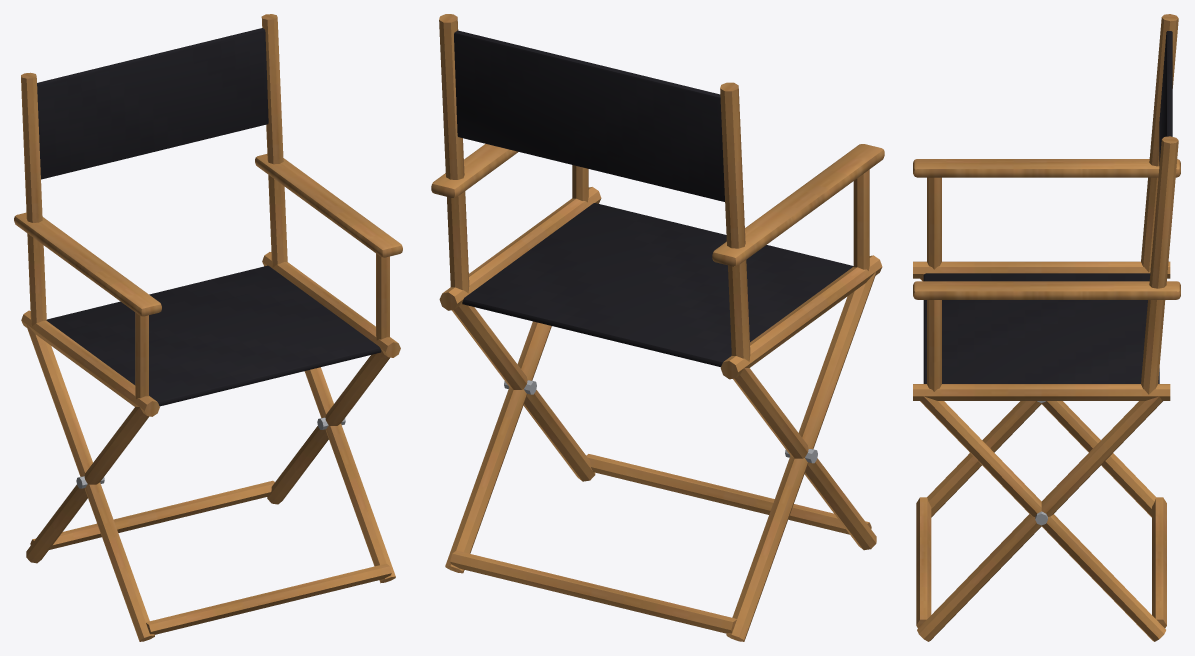
File: cadeira-diretor.glb
3 renders of one model, left to right at view 1: azimuth 30°, elevation 25°; view 2: azimuth 150°, elevation 25°; view 3: azimuth 270°, elevation 25°, orthographic. The views are drawn at different scales.
Visible parts, largest first — view 1: assento-lona, encosto-lona, perna-a, coluna-encosto, travessa-piso, braco, braco.001, coluna-encosto.001, perna-a.001, travessa-piso.001, perna-b, perna-b.001 (+4 smaller); view 2: assento-lona, encosto-lona, perna-b, travessa-piso.001, coluna-encosto, braco, perna-b.001, coluna-encosto.001, perna-a, travessa-piso, perna-a.001, trilho-assento (+3 smaller); view 3: assento-lona, perna-b.001, perna-a.001, braco.001, braco, coluna-encosto.001, trilho-assento.001, trilho-assento, coluna-encosto, perna-b, perna-a, travessa-piso (+4 smaller).
Boxes of the visible parts, box(x1,y1,x2,y2) form: assento-lona: box(46, 265, 381, 406); encosto-lona: box(37, 28, 268, 179); perna-a: box(26, 324, 154, 641); coluna-encosto: box(21, 72, 46, 326); travessa-piso: box(146, 564, 391, 634); braco: box(14, 212, 161, 316); braco.001: box(255, 154, 402, 257); coluna-encosto.001: box(261, 14, 287, 267); perna-a.001: box(304, 367, 395, 583); travessa-piso.001: box(30, 480, 274, 549); perna-b: box(26, 407, 149, 563); perna-b.001: box(267, 348, 389, 504); assento-lona: box(462, 203, 853, 366); encosto-lona: box(454, 30, 724, 201); perna-b: box(726, 272, 876, 641); travessa-piso.001: box(450, 550, 736, 633); coluna-encosto: box(720, 82, 750, 361); braco: box(712, 144, 884, 266); perna-b.001: box(445, 321, 551, 573); coluna-encosto.001: box(439, 14, 469, 293); perna-a: box(733, 368, 876, 550); travessa-piso: box(586, 454, 871, 534); perna-a.001: box(452, 299, 595, 481); trilho-assento: box(720, 255, 882, 379); assento-lona: box(923, 273, 1159, 383); perna-b.001: box(920, 396, 1165, 641); perna-a.001: box(917, 396, 1162, 641); braco.001: box(913, 281, 1180, 299); braco: box(913, 159, 1180, 177); coluna-encosto.001: box(1141, 136, 1178, 394); trilho-assento.001: box(913, 384, 1170, 400); trilho-assento: box(913, 261, 1170, 278); coluna-encosto: box(1141, 14, 1178, 272); perna-b: box(920, 274, 1156, 517); perna-a: box(927, 401, 1041, 517); travessa-piso: box(916, 497, 931, 628).
Size of the model in its own units: 0.59 by 1.03 by 0.5.
3 materials, 2 textured.
